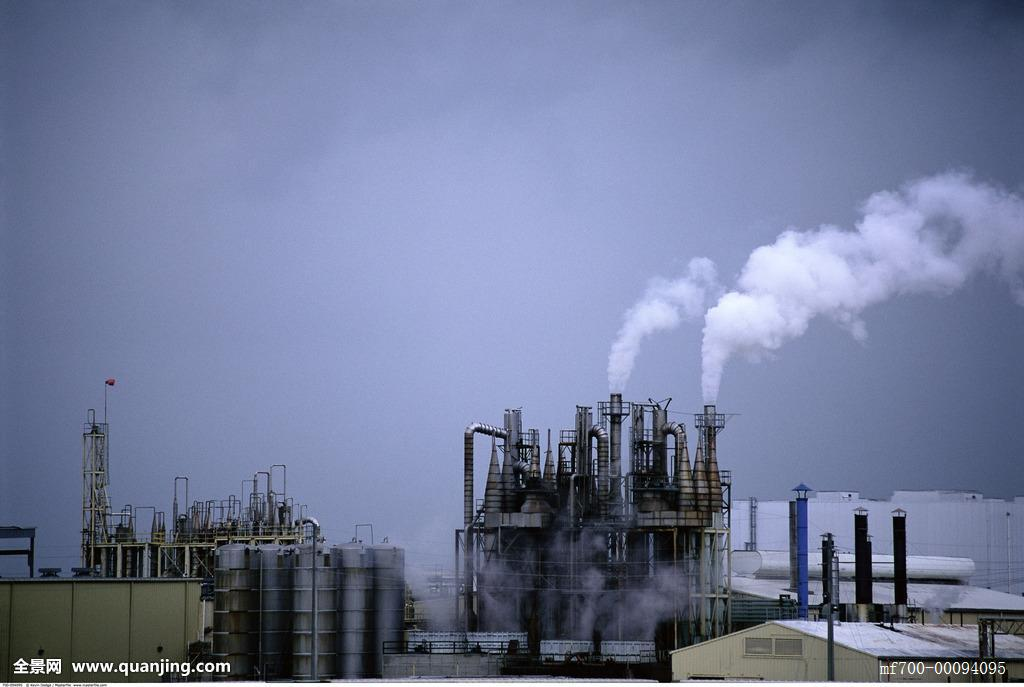dust: (692, 177, 936, 421), (600, 262, 697, 405)
